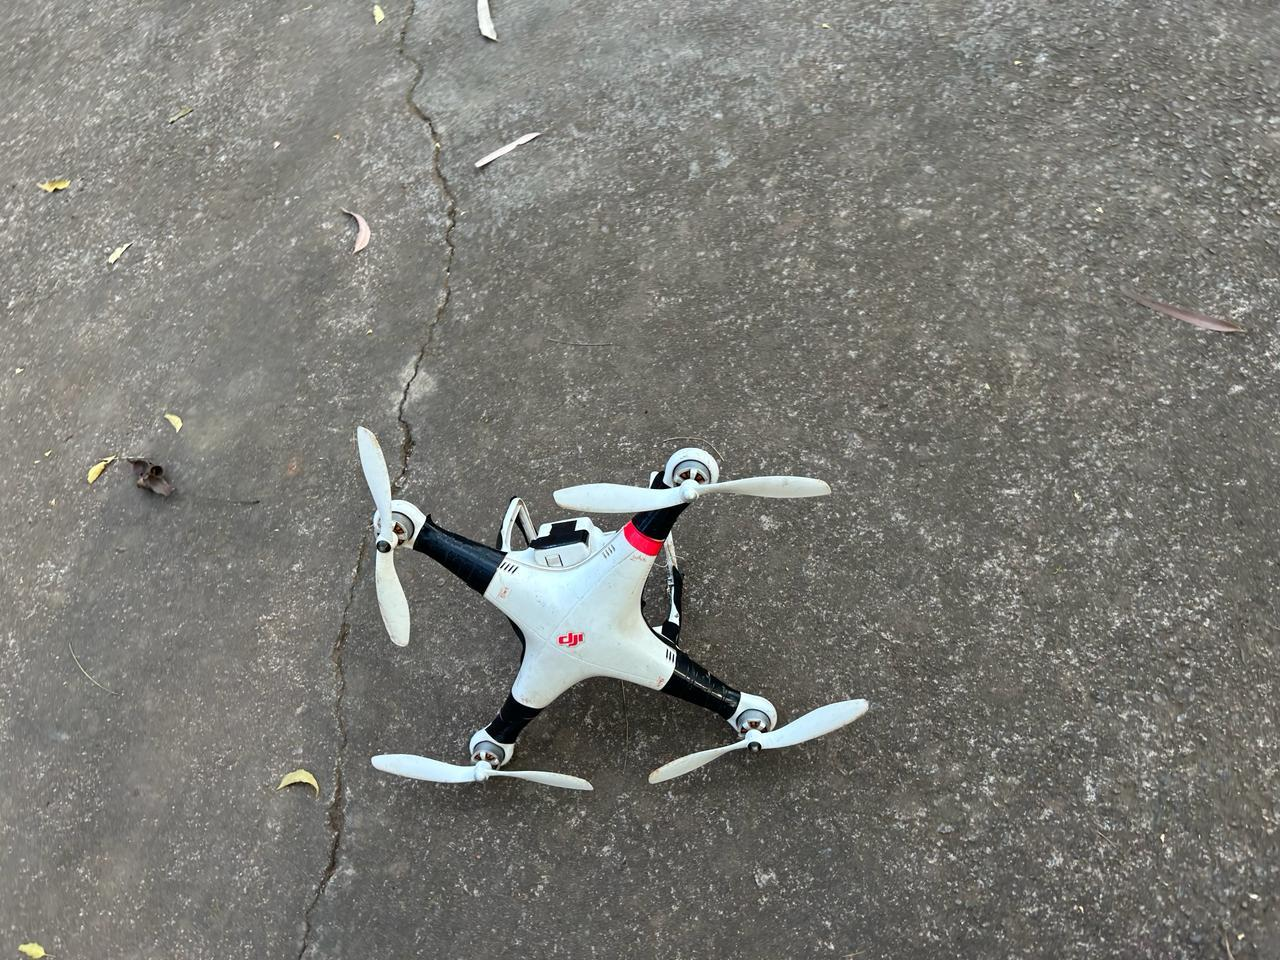drone: (205, 335, 1030, 918)
